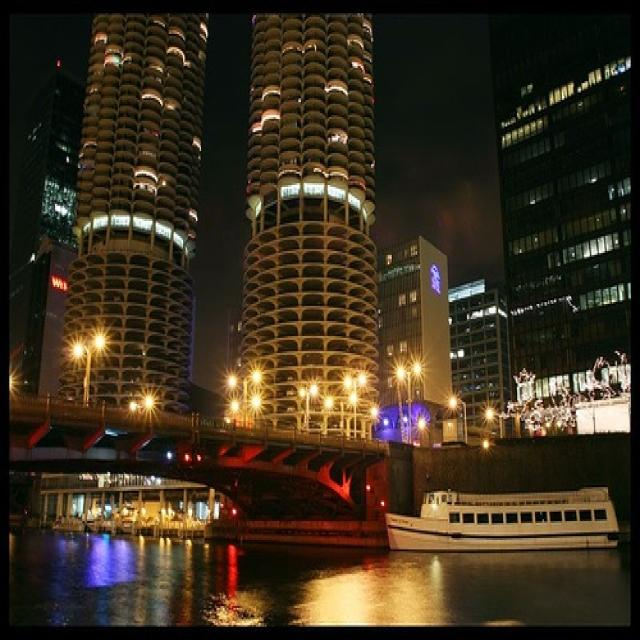boat: (384, 482, 623, 553)
